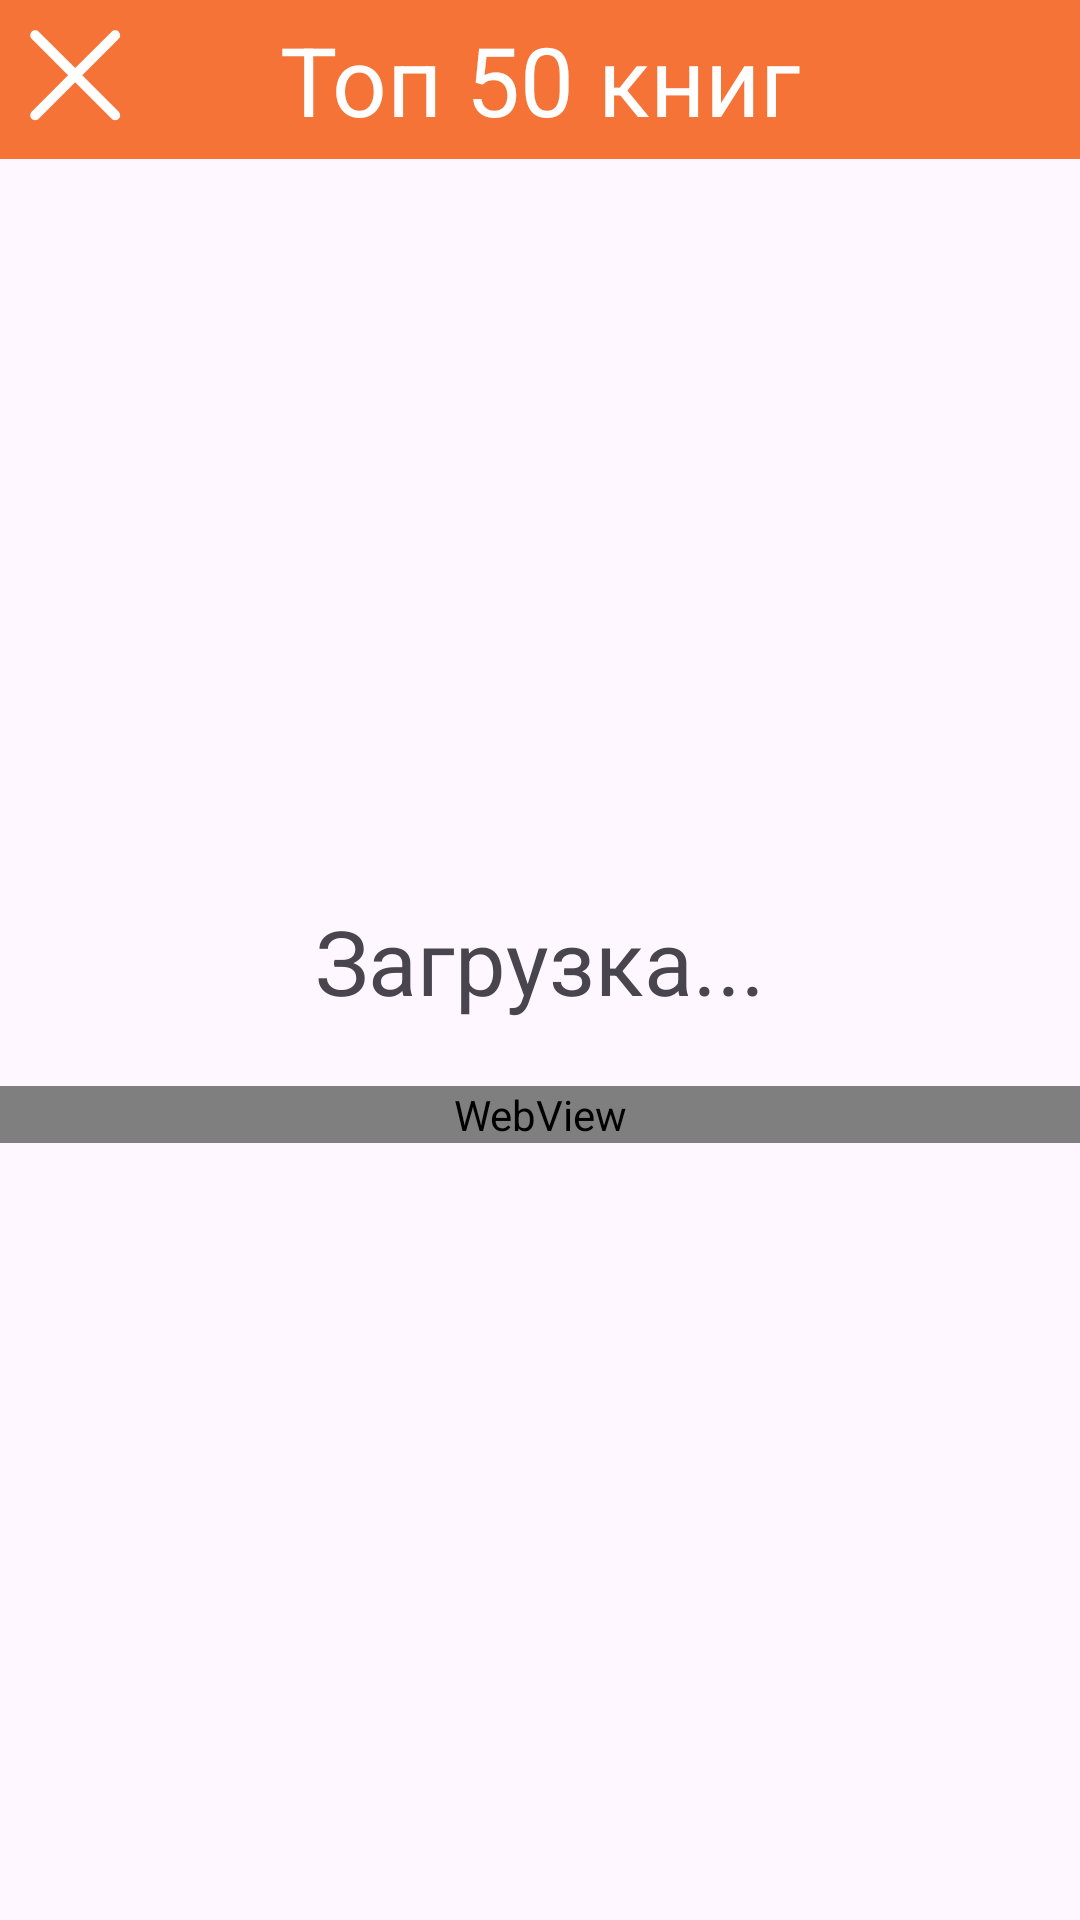

Screen size 1080w x 1920h. Icon name, then its box in pixels as (x1, y1, x2, y2):
close: (30, 30, 120, 121)
